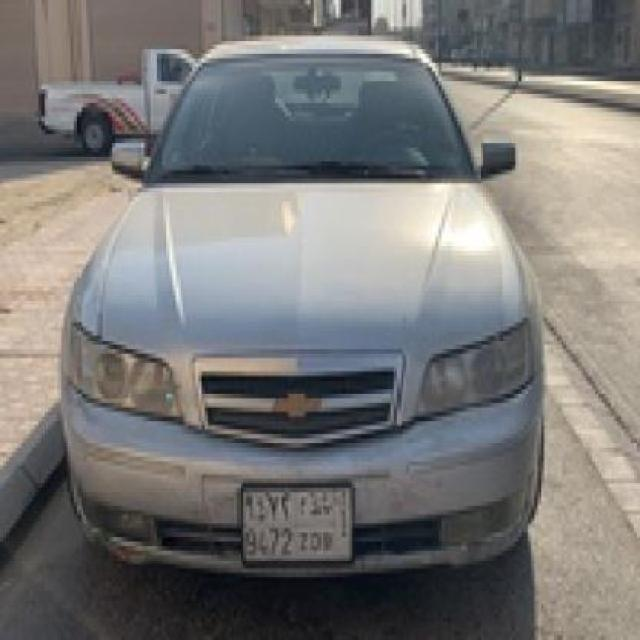license_plate: (236, 479, 358, 573)
